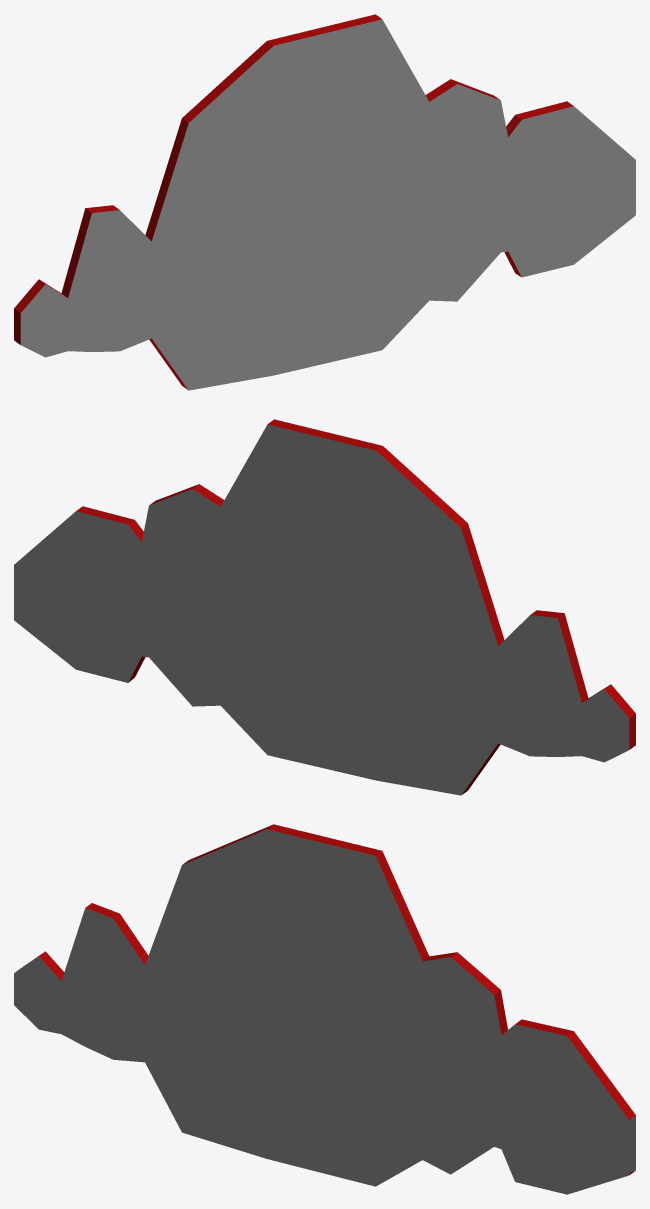
File: SM_Cloud.FBX
3 views of the same model, one above another, from view 1: azimuth 30°, elevation 25°; view 2: azimuth 150°, elevation 25°; view 3: azimuth 330°, elevation 25° (orthographic).
Visible parts, largest first — view 1: Box001; view 2: Box001; view 3: Box001.
Boxes of the visible parts, x1,y1,x2,y2 form: Box001: (14,14,635,390); Box001: (14,419,635,795); Box001: (14,824,635,1194).
Bounding box in the file's own units: 303 × 156 × 5.77.
